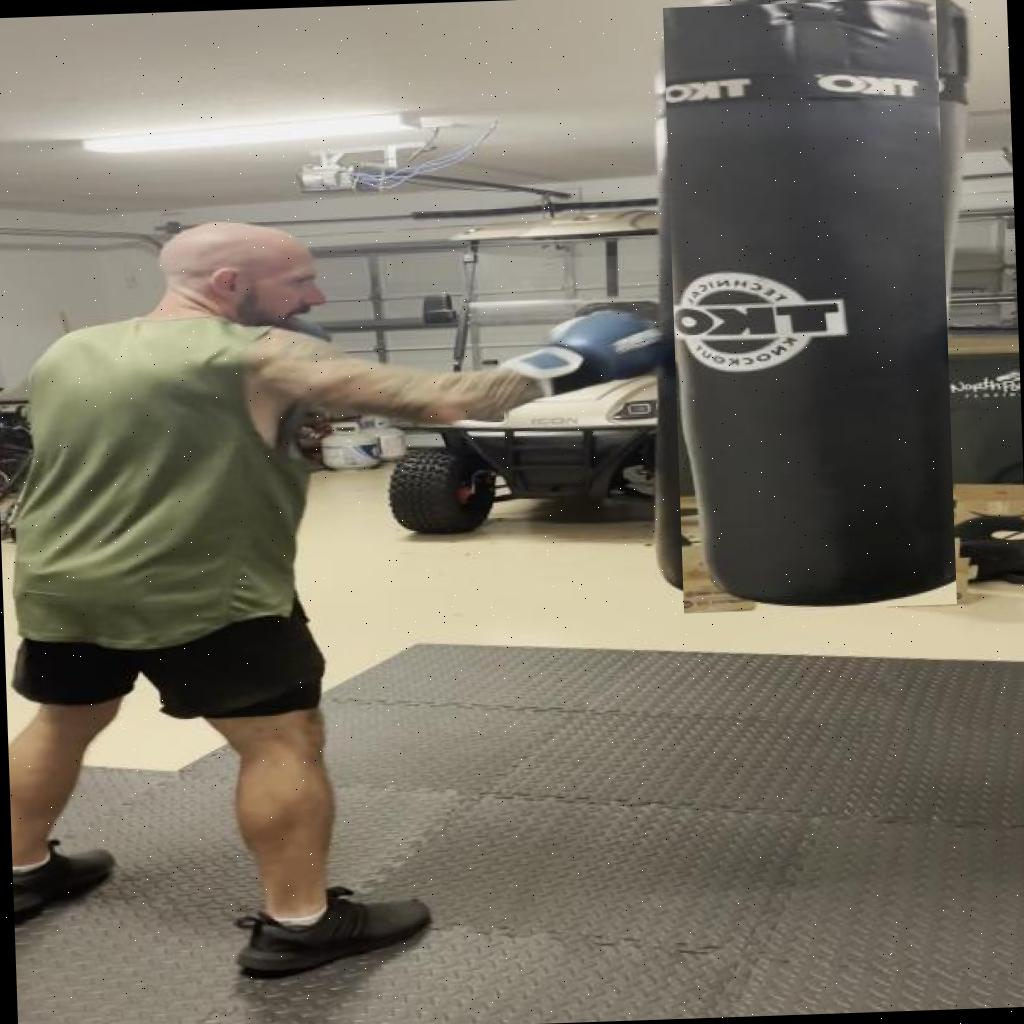bag: (662, 0, 956, 613)
jab: (0, 158, 718, 522)
